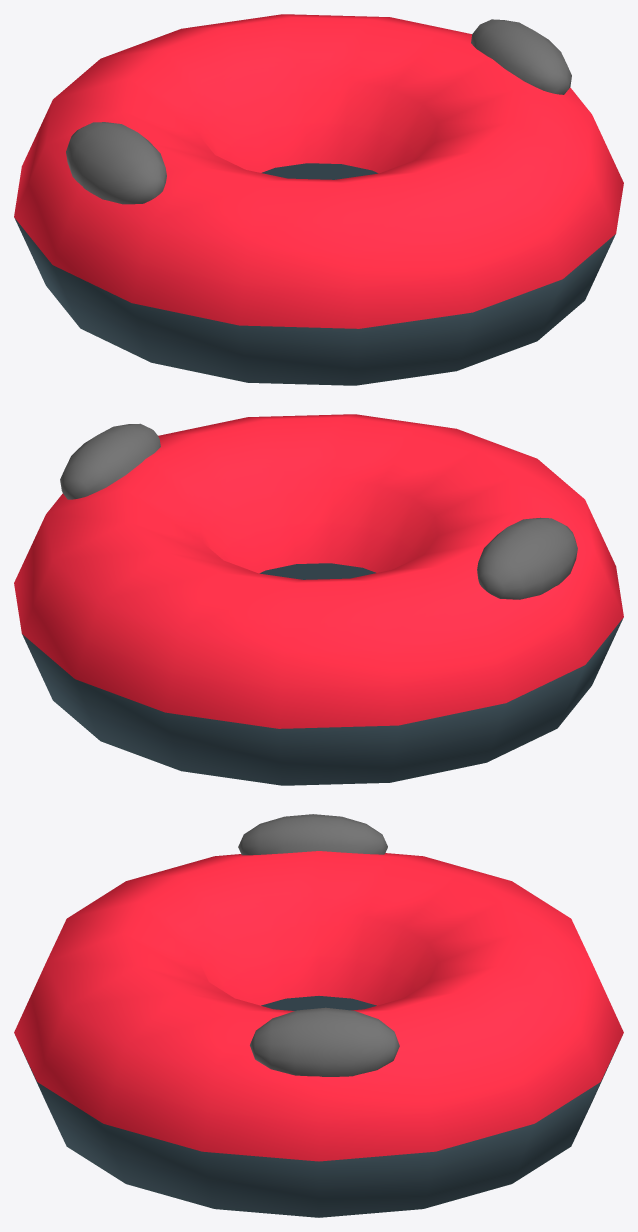
Rendered from tubing_001.glb.
The picture shows the model from 3 angles, top to bottom: view 1: azimuth 30°, elevation 25°; view 2: azimuth 150°, elevation 25°; view 3: azimuth 270°, elevation 25°; orthographic projection.
Parts seen in each view (by area): view 1: tubing_001; view 2: tubing_001; view 3: tubing_001.
Part boxes in pixels (<box>): tubing_001: <box>14,14,623,385</box>; tubing_001: <box>14,414,623,785</box>; tubing_001: <box>14,814,623,1217</box>.
Bounding box in the file's own units: 3.04 × 1.19 × 3.04.
Materials: 1 (1 with a texture image).
